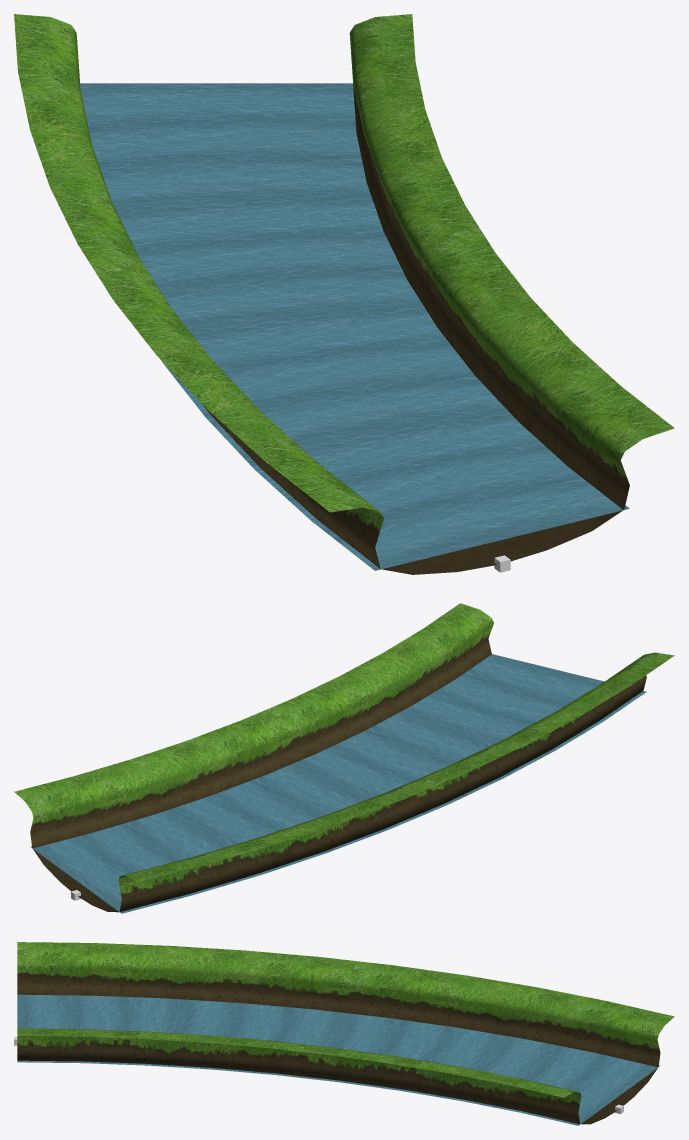
Rendered from roadBend30.R.fbx.
The picture shows the model from 3 angles, top to bottom: view 1: azimuth 30°, elevation 25°; view 2: azimuth 150°, elevation 25°; view 3: azimuth 270°, elevation 25°; orthographic projection. The views are drawn at different scales.
Parts seen in each view (by area): view 1: MESH roadBend30.R; view 2: MESH roadBend30.R; view 3: MESH roadBend30.R.
Part boxes in pixels (x1=…): MESH roadBend30.R: x1=14, y1=14, x2=674, y2=574; MESH roadBend30.R: x1=14, y1=603, x2=674, y2=913; MESH roadBend30.R: x1=17, y1=942, x2=674, y2=1125.
Size of what is drawn, in the model's own units: 2806 by 463 by 5031.
